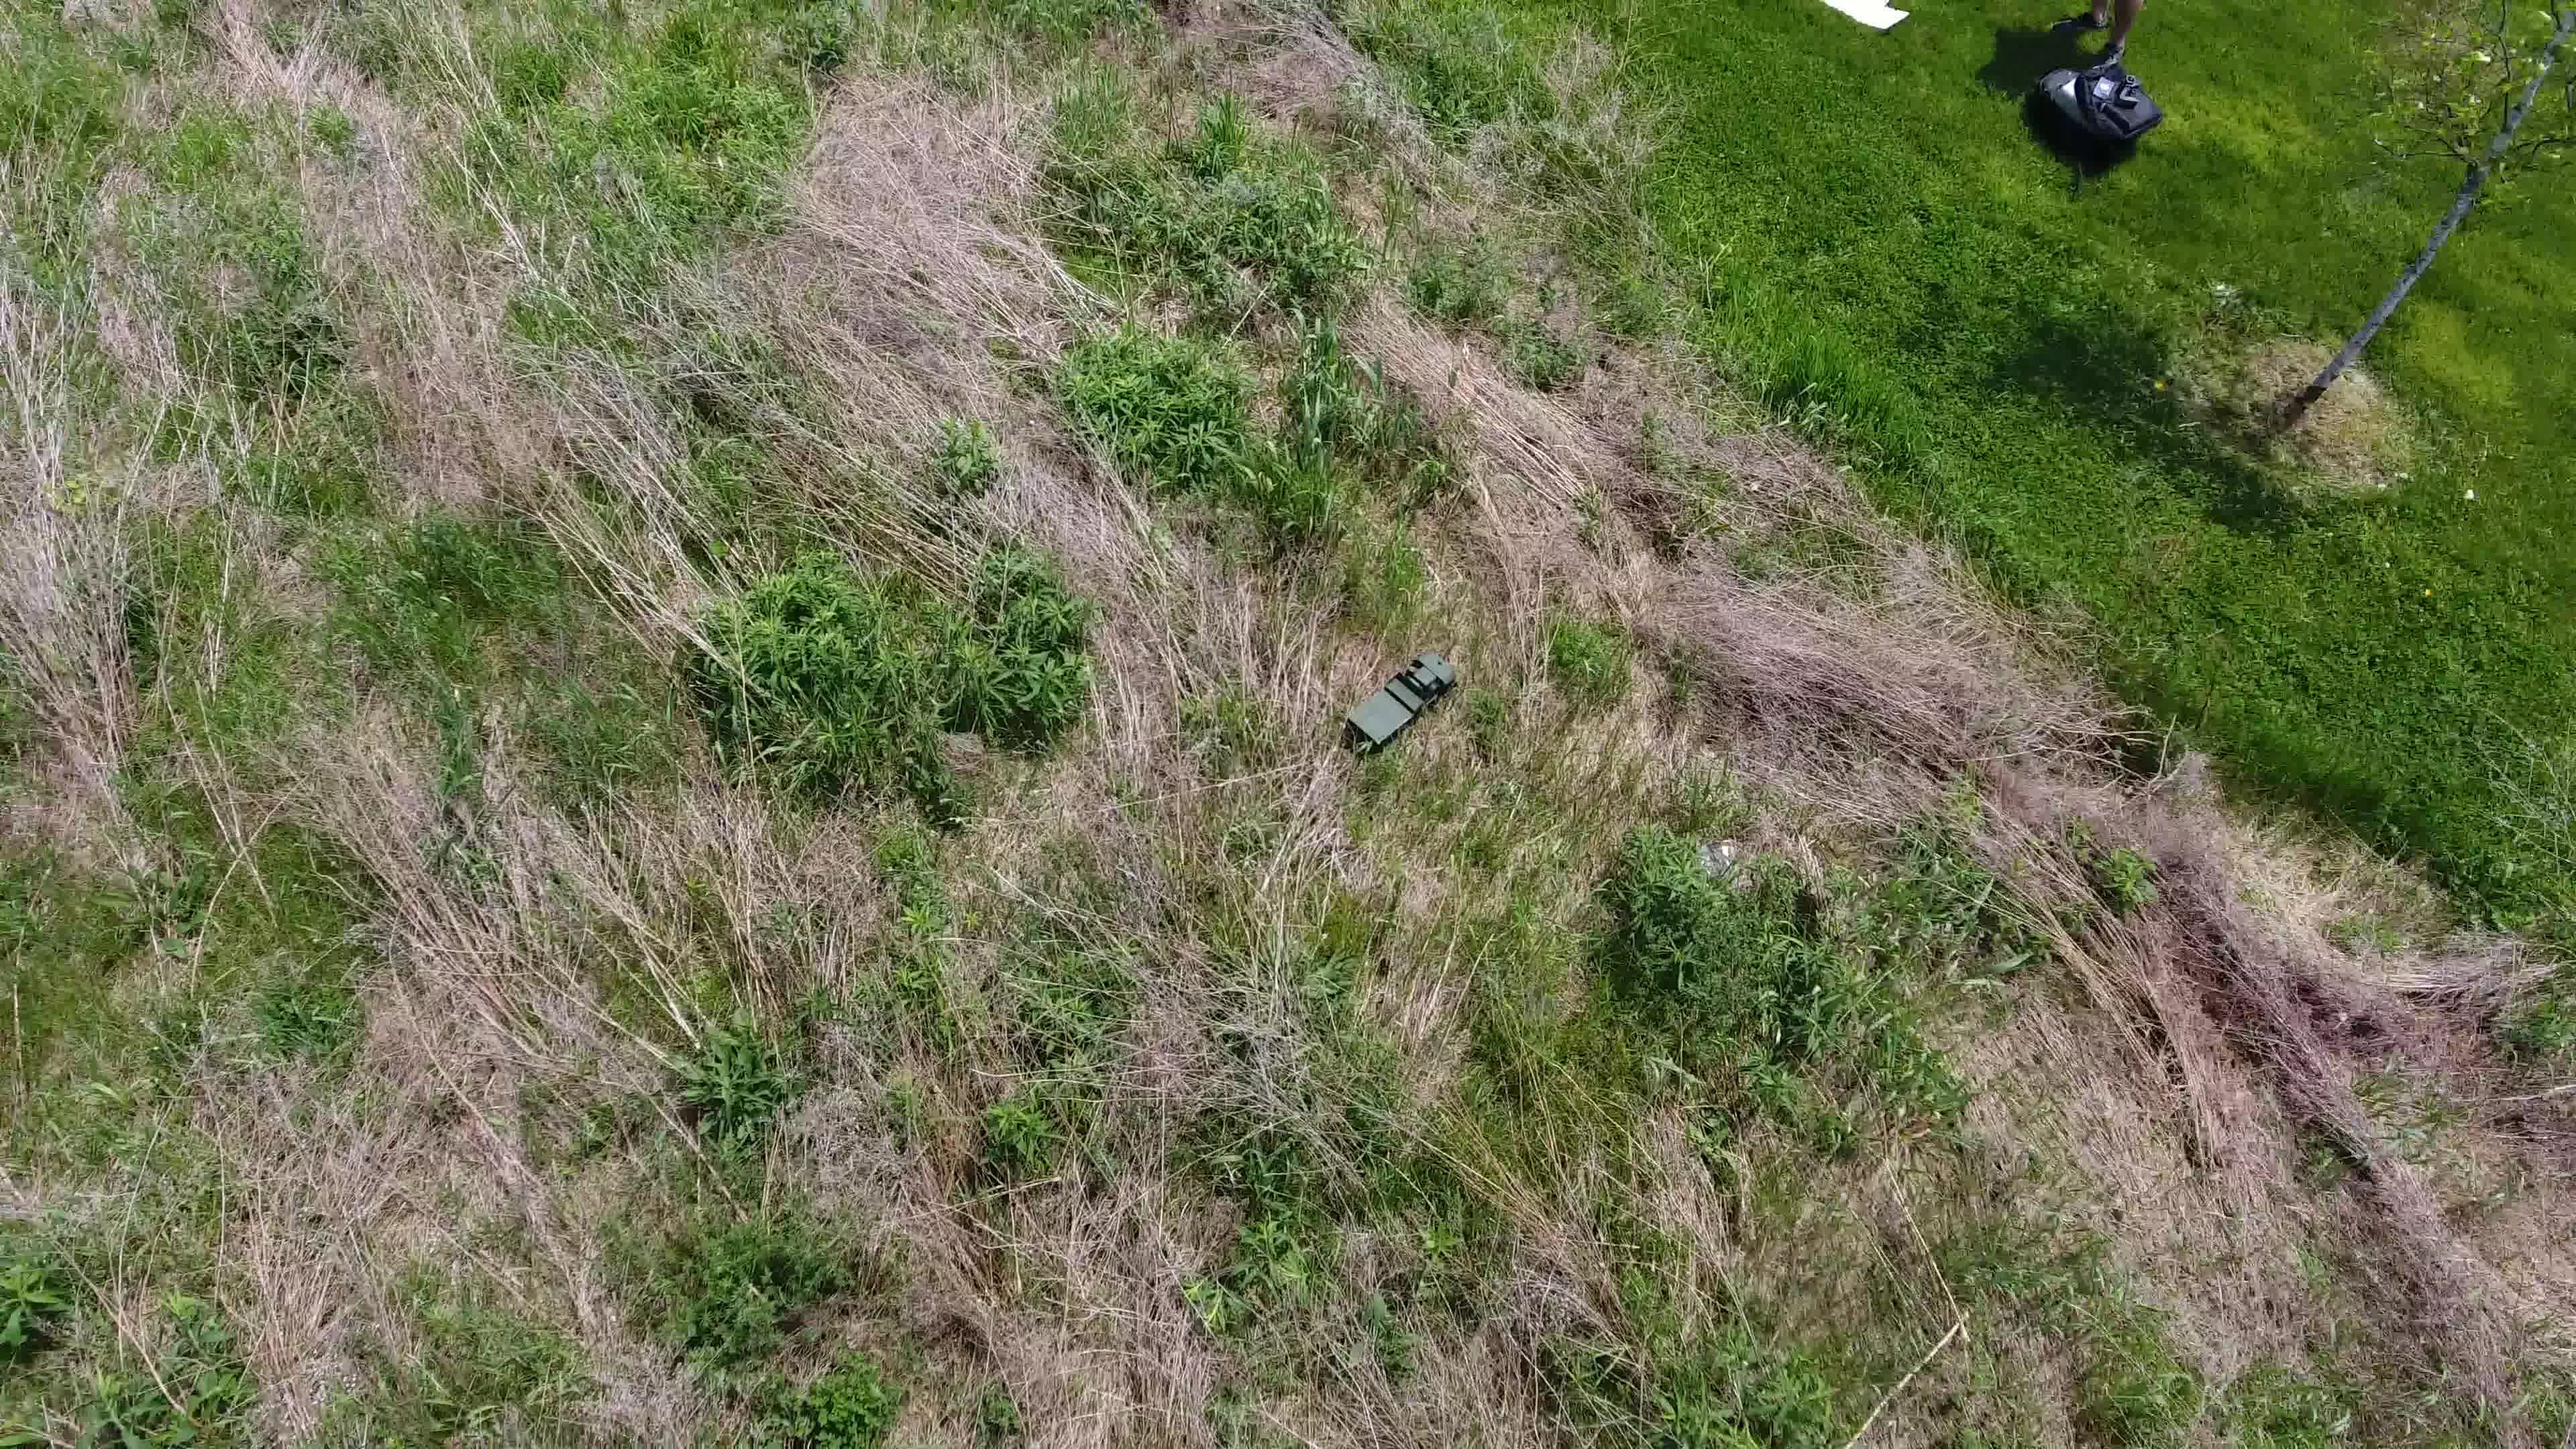transporter9: (1341, 648, 1460, 752)
